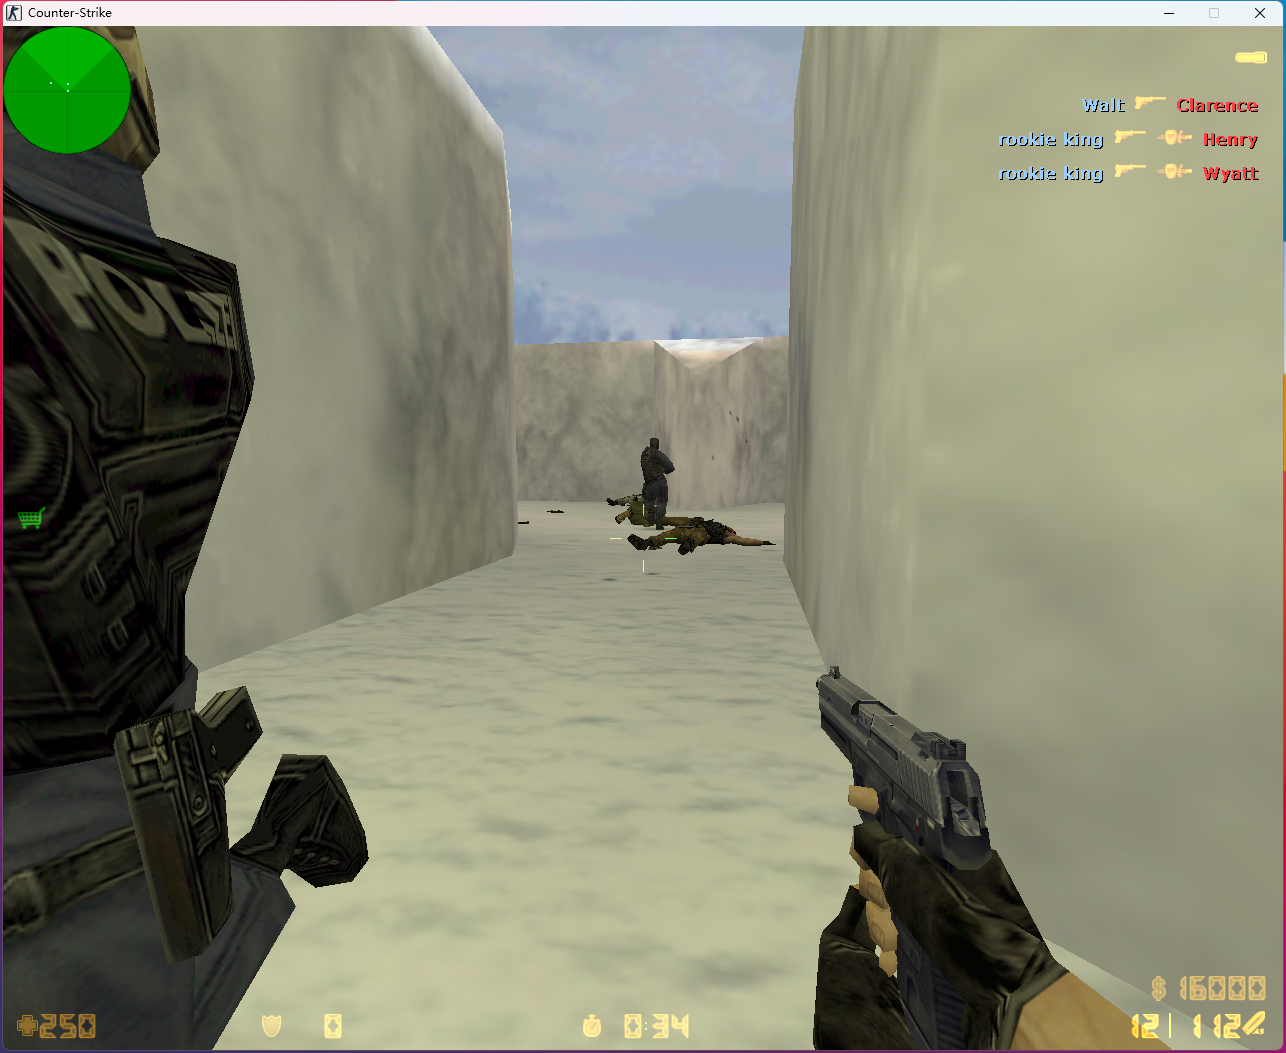C: (639, 437, 677, 532)
dead: (623, 520, 773, 554)
